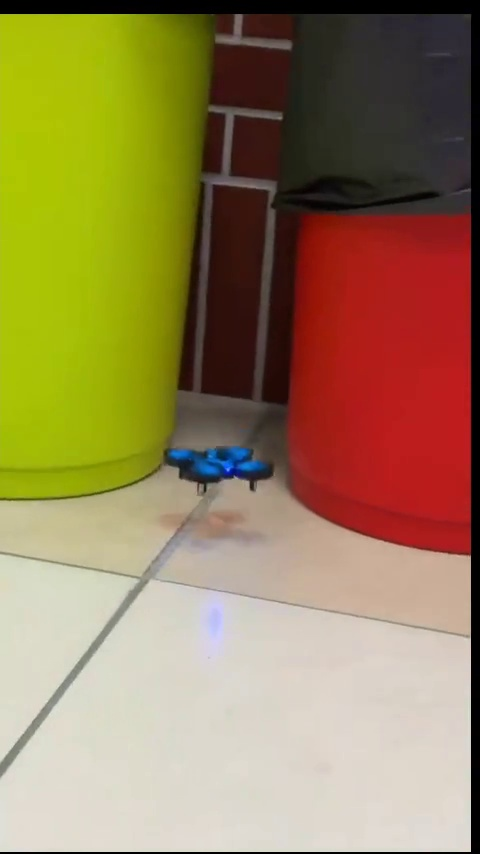drone: (160, 443, 271, 495)
